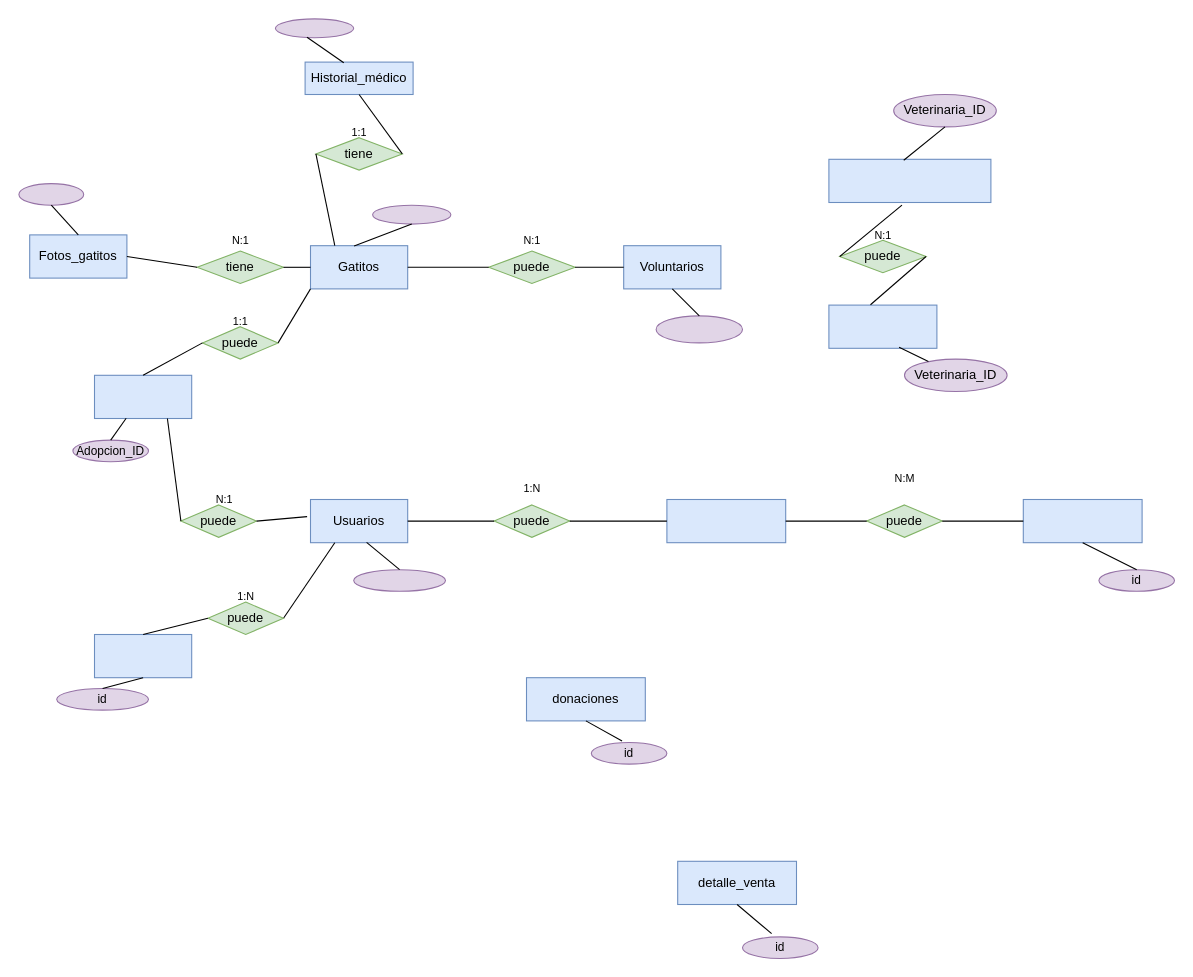
Some shapes in this 1193 by 977 pixel diagram are drawn without their labels. The box of each missing label's shape, as (x1, y1, x2, y2) in pixels:
Adopciones: (93, 374, 192, 418)
Foto_ID: (18, 183, 84, 205)
Gatito_ID: (372, 204, 451, 224)
Historial_ID: (274, 18, 354, 38)
id_usuario: (353, 569, 446, 591)
productos: (1022, 498, 1142, 543)
rol: (93, 633, 192, 678)
Ventas: (666, 498, 786, 543)
veterianaria_especialidad: (828, 158, 991, 202)
Veterinarias: (828, 304, 937, 348)
Voluntario_ID: (655, 315, 742, 343)
